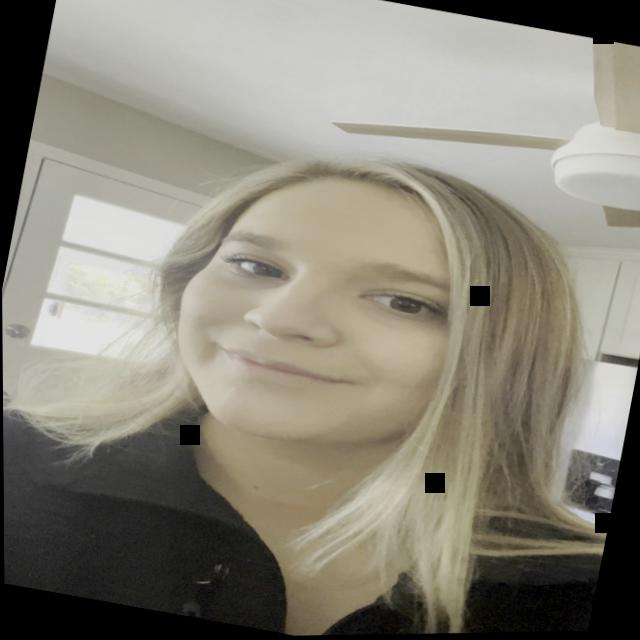NO-Mask: (127, 134, 515, 514)
